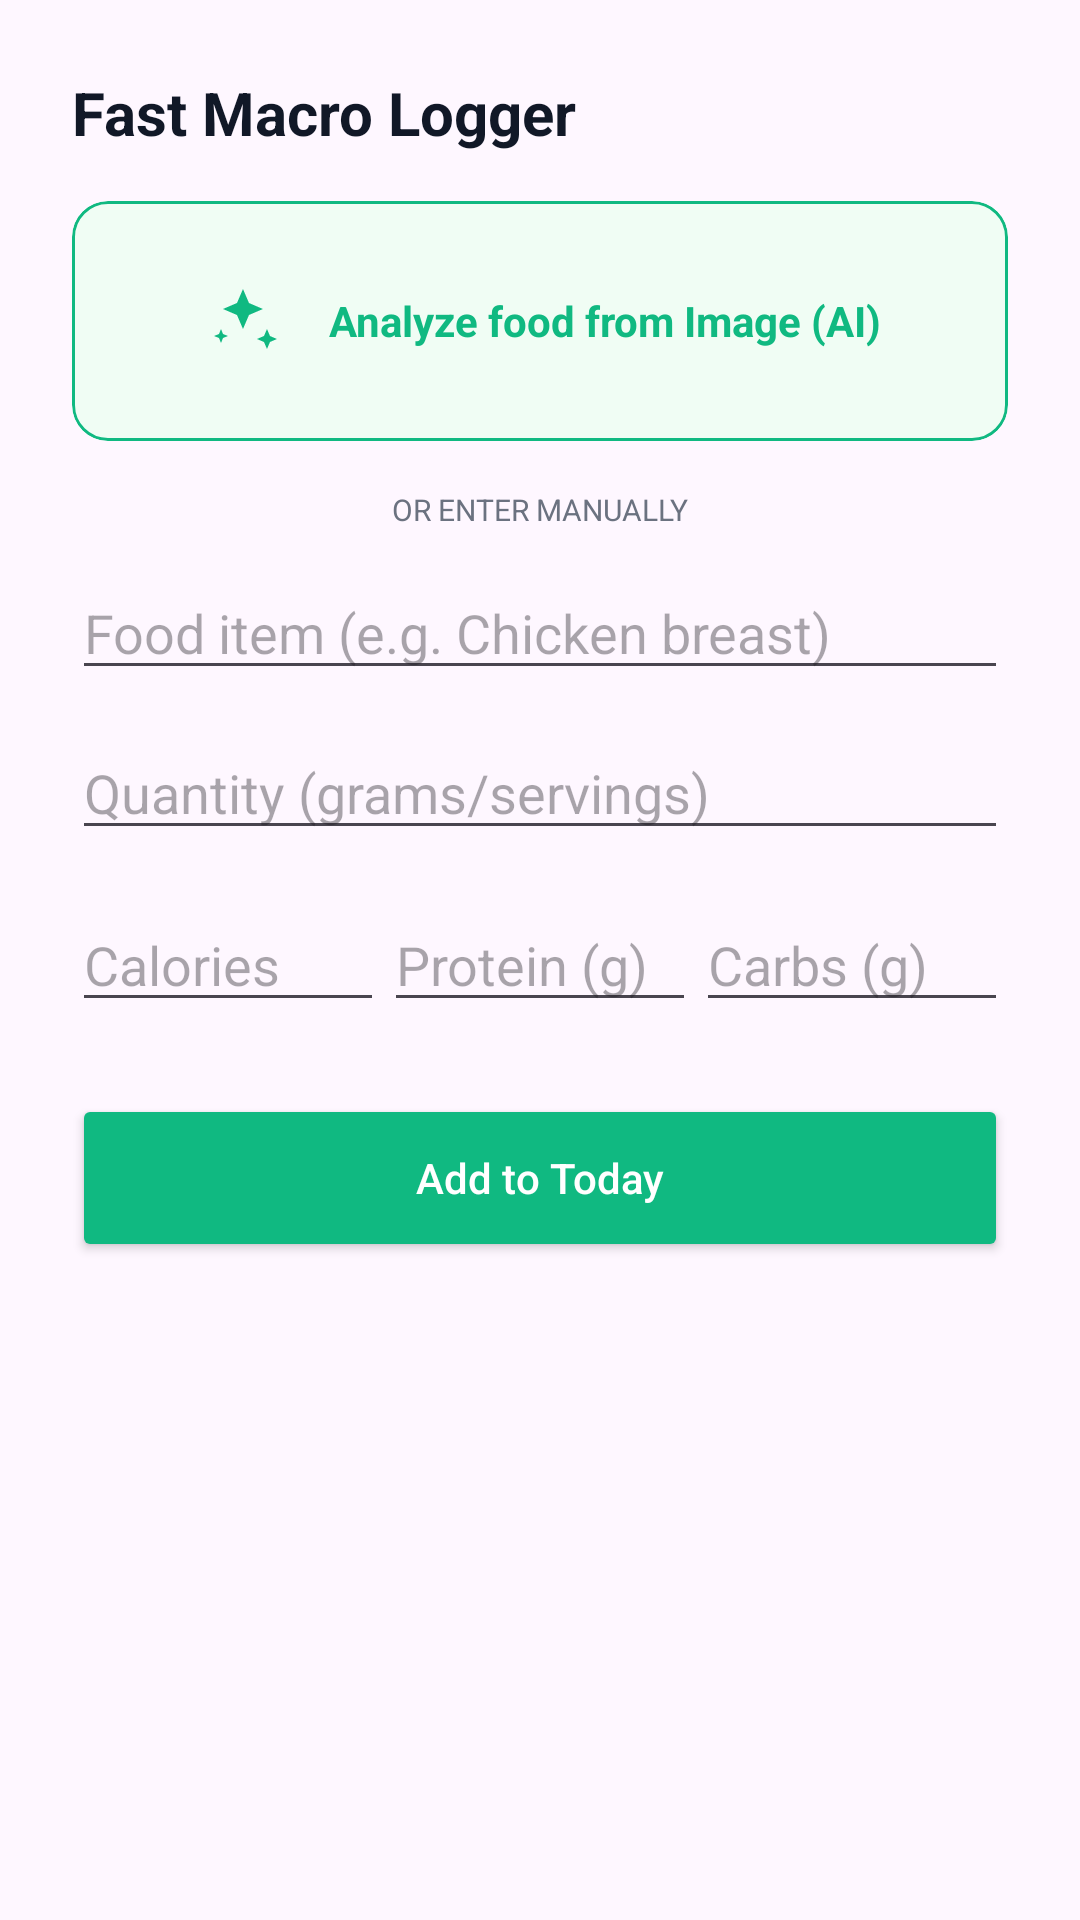

Where icons sit on this 1080x1920 app screen, as bbox=[x1, y1, x2, y2]:
sparkles: bbox=[214, 289, 277, 349]
